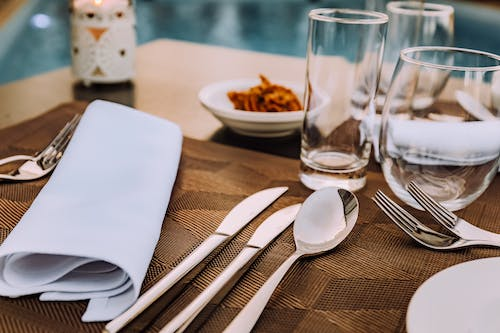knife: (100, 184, 290, 333), (158, 202, 303, 333)
